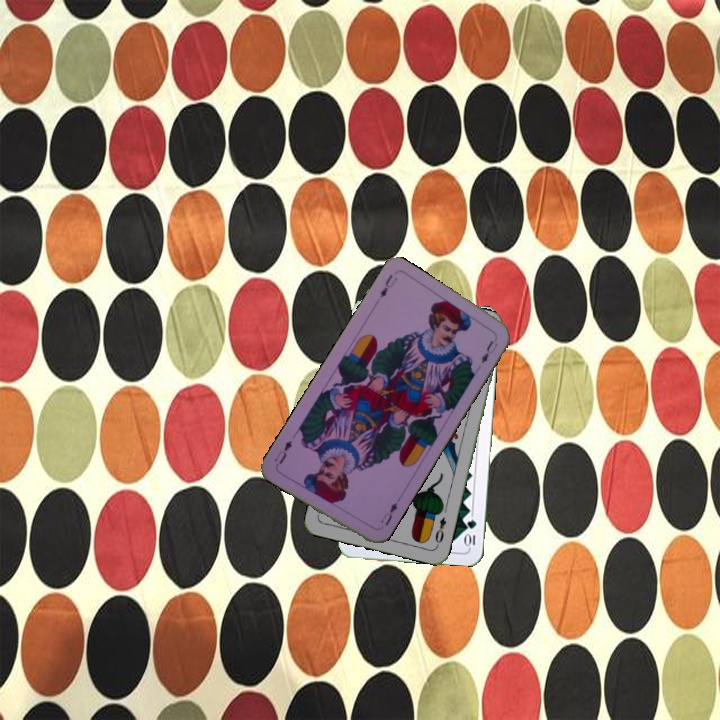EO: (431, 513, 449, 549)
EU: (376, 498, 400, 528), (376, 270, 400, 300)
G10: (462, 515, 479, 550)
